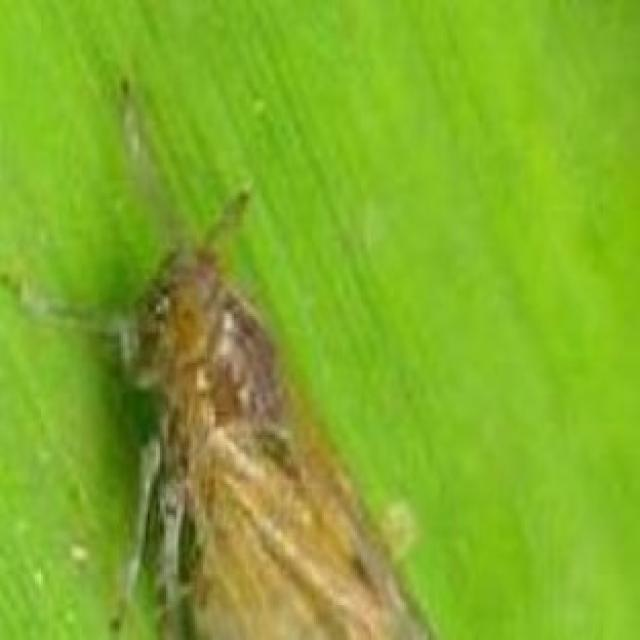brown plant hopper: (119, 191, 427, 638)
